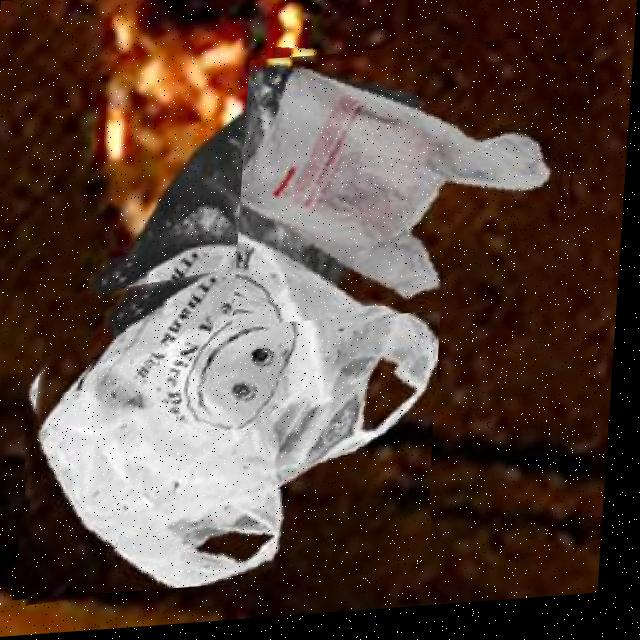litter: (16, 235, 449, 600), (236, 41, 590, 329)
